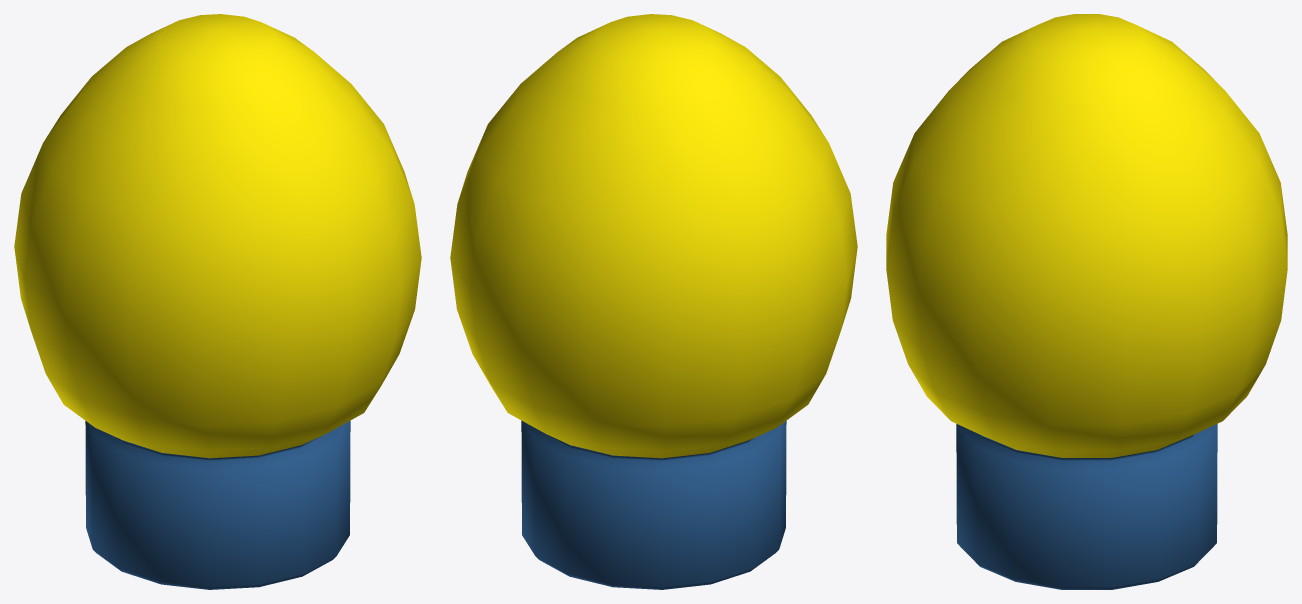
The model's file is Bulbs.fbx.
The picture shows the model from 3 angles, left to right: view 1: azimuth 30°, elevation 25°; view 2: azimuth 150°, elevation 25°; view 3: azimuth 270°, elevation 25°; orthographic projection.
Parts seen in each view (by area): view 1: Yellow_Bulb; view 2: Yellow_Bulb; view 3: Yellow_Bulb.
Boxes of the visible parts, x1,y1,x2,y2 form: Yellow_Bulb: (14, 14, 421, 589); Yellow_Bulb: (450, 14, 857, 589); Yellow_Bulb: (886, 14, 1287, 589).
Size of the model in its own units: 2.21 by 3.1 by 2.21.
